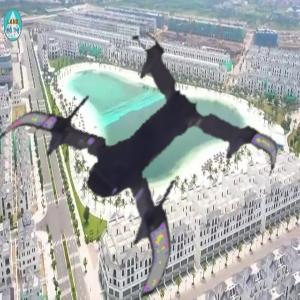drone: (3, 39, 255, 291)
